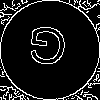G: (25, 25, 69, 76)
